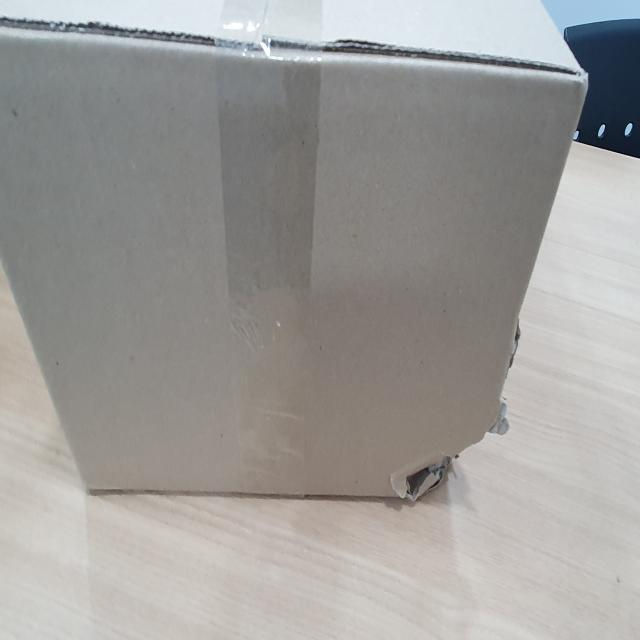hole: (395, 455, 459, 494)
